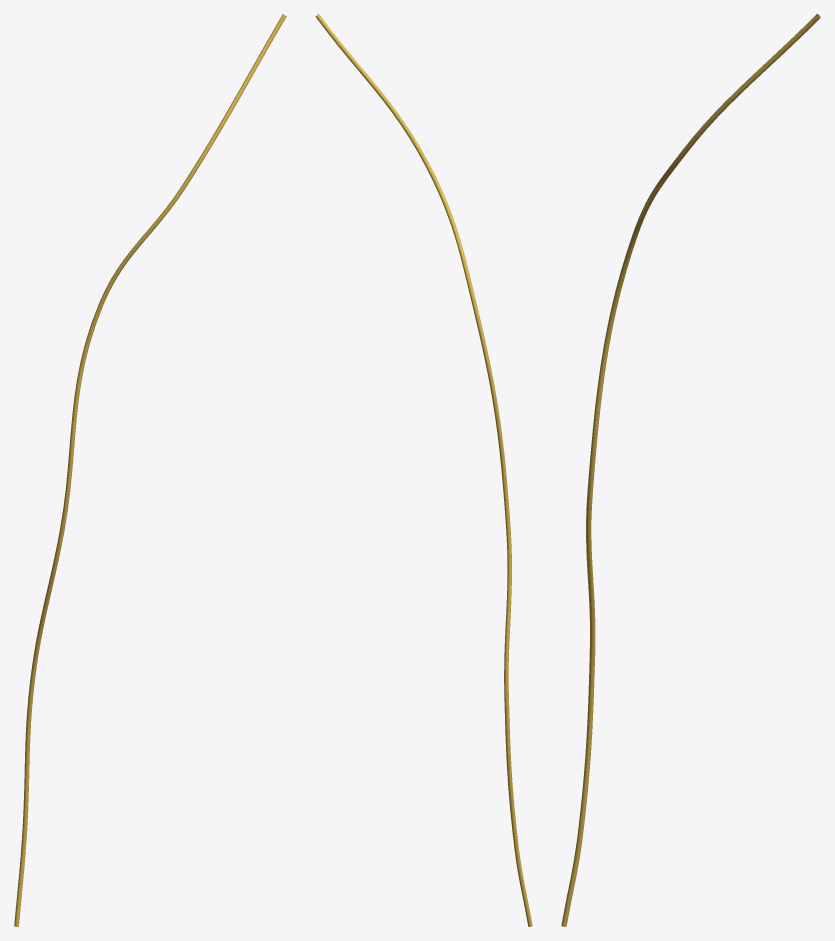
File: Medial_antebrachial_cutaneous_nerve_right.glb
3 renders of one model, left to right at view 1: azimuth 30°, elevation 25°; view 2: azimuth 150°, elevation 25°; view 3: azimuth 330°, elevation 25°, orthographic. The views are drawn at different scales.
Visible parts, largest first — view 1: Medial_antebrachial_cutaneous_nerve.r_BezierCurve.513; view 2: Medial_antebrachial_cutaneous_nerve.r_BezierCurve.513; view 3: Medial_antebrachial_cutaneous_nerve.r_BezierCurve.513.
Part boxes in pixels (bbox=[...]): Medial_antebrachial_cutaneous_nerve.r_BezierCurve.513: bbox=[14, 14, 286, 926]; Medial_antebrachial_cutaneous_nerve.r_BezierCurve.513: bbox=[315, 14, 532, 926]; Medial_antebrachial_cutaneous_nerve.r_BezierCurve.513: bbox=[561, 14, 820, 926].
Size of the model in its own units: 0.0608 by 0.2036 by 0.017.
